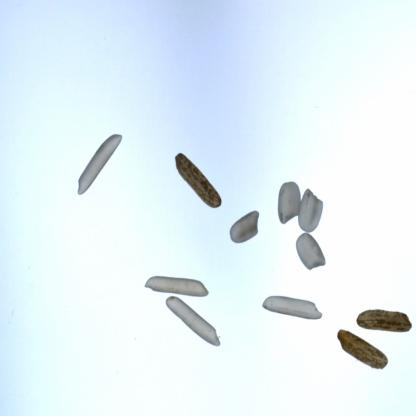Full: (56, 118, 124, 202), (162, 138, 226, 216), (162, 284, 218, 362), (335, 322, 394, 373), (258, 284, 322, 325), (135, 268, 209, 302), (349, 297, 412, 334), (216, 205, 262, 247), (295, 228, 334, 272), (296, 184, 328, 233), (274, 177, 304, 225)
